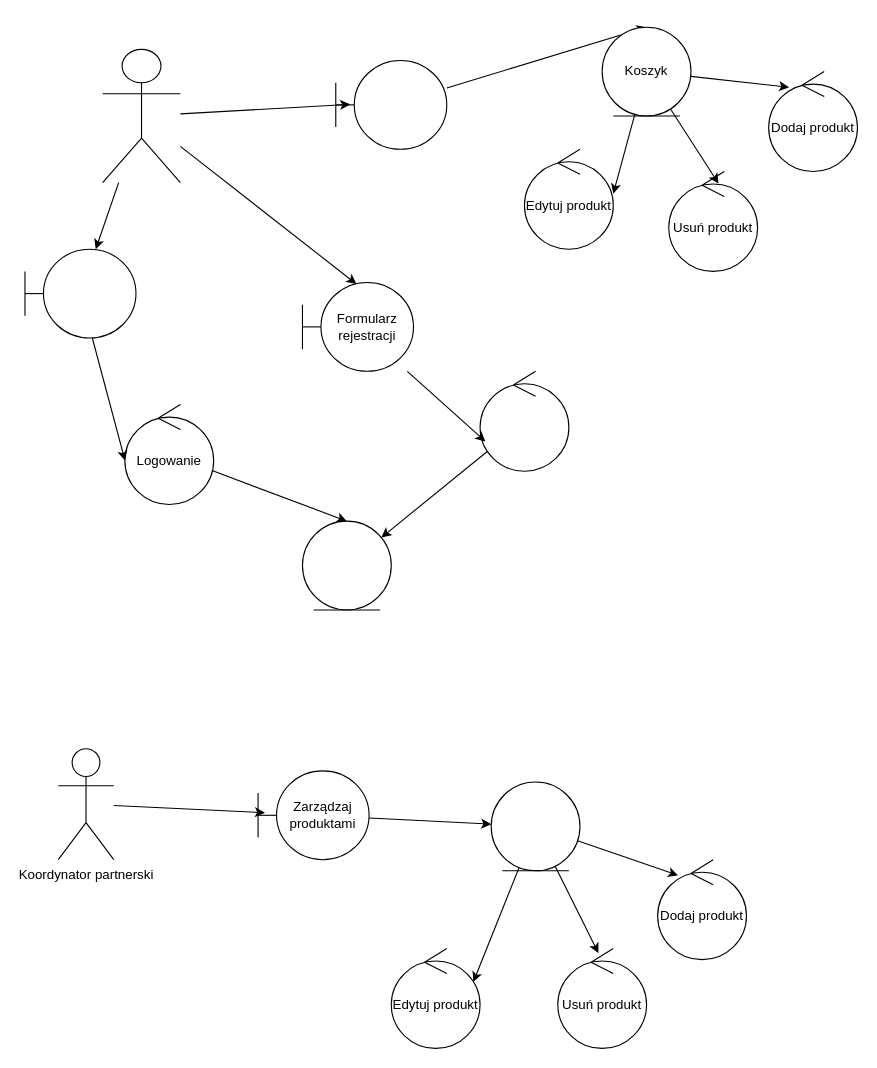
Some shapes in this 877 by 1068 pixel diagram are drawn without their labels. The centre of each missing label's shape, as x and y in pixels:
"Formularz logowania" goes at (80,293).
"Klient" goes at (141,115).
"Produkt" goes at (535,826).
"Przejdź do koszyka" goes at (391,104).
"Rejestracja" goes at (524,420).
"Użytkownicy" goes at (346,565).
